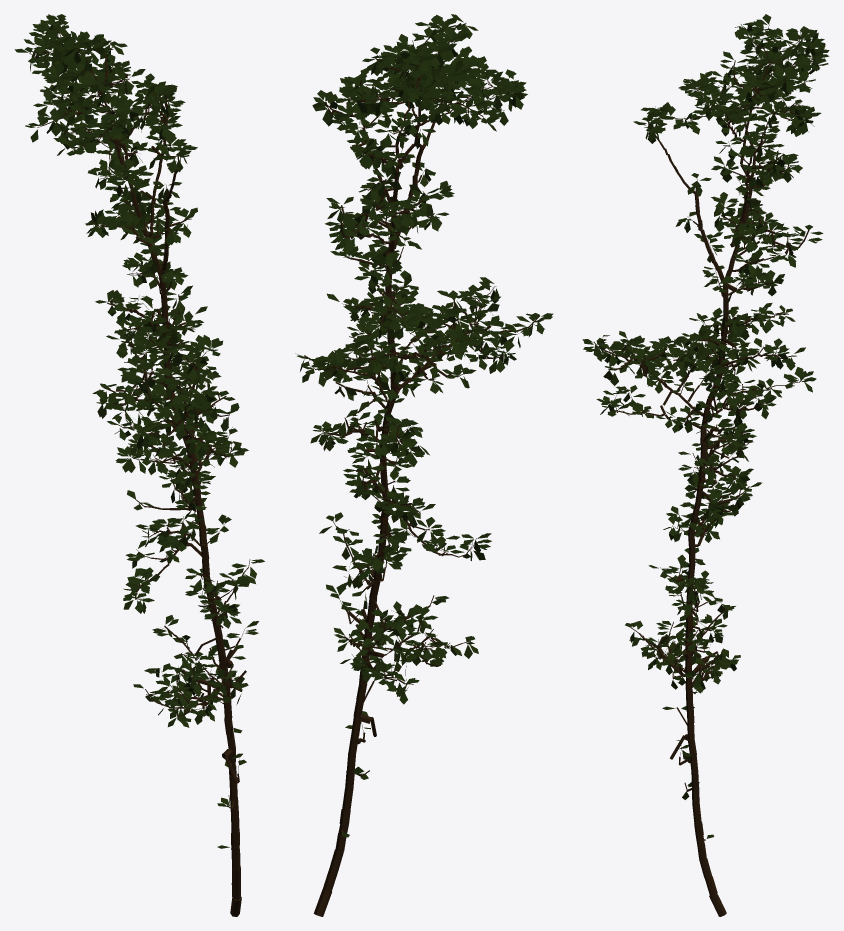
Rendered from tree_55.obj.
The picture shows the model from 3 angles, left to right: view 1: azimuth 30°, elevation 25°; view 2: azimuth 150°, elevation 25°; view 3: azimuth 270°, elevation 25°; orthographic projection. The views are drawn at different scales.
Parts seen in each view (by area): view 1: Leaves, TrunkAndBranches; view 2: Leaves, TrunkAndBranches; view 3: Leaves, TrunkAndBranches.
Boxes of the visible parts, x1,y1,x2,y2 form: Leaves: (14, 14, 264, 848); TrunkAndBranches: (29, 17, 250, 916); Leaves: (295, 14, 553, 837); TrunkAndBranches: (304, 22, 539, 916); Leaves: (582, 14, 829, 838); TrunkAndBranches: (593, 24, 818, 916).
Bounding box in the file's own units: 4.34 × 18.54 × 5.
